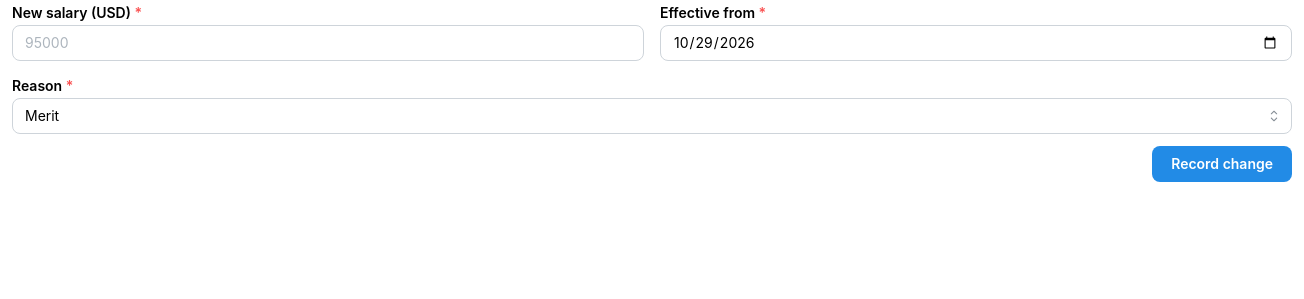
Scenario: SalaryForm › submitting › keeps what was typed when the server rejects it
Step 1. Type "125000" into the field labelled "New salary (USD) *" → point(328, 43), box [12,25,644,61]
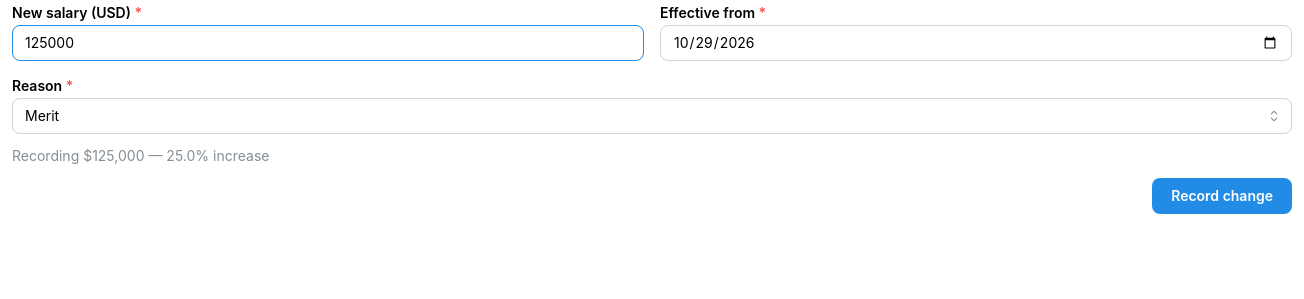
Step 2. Click the button "Record change" → point(1222, 196), box [1152,178,1292,214]
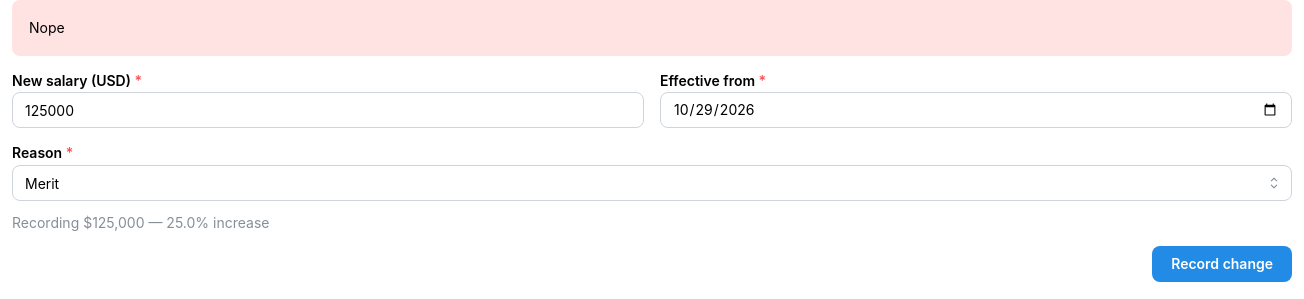
Expected: the message "Nope" is shown, [12,0,1292,56]
